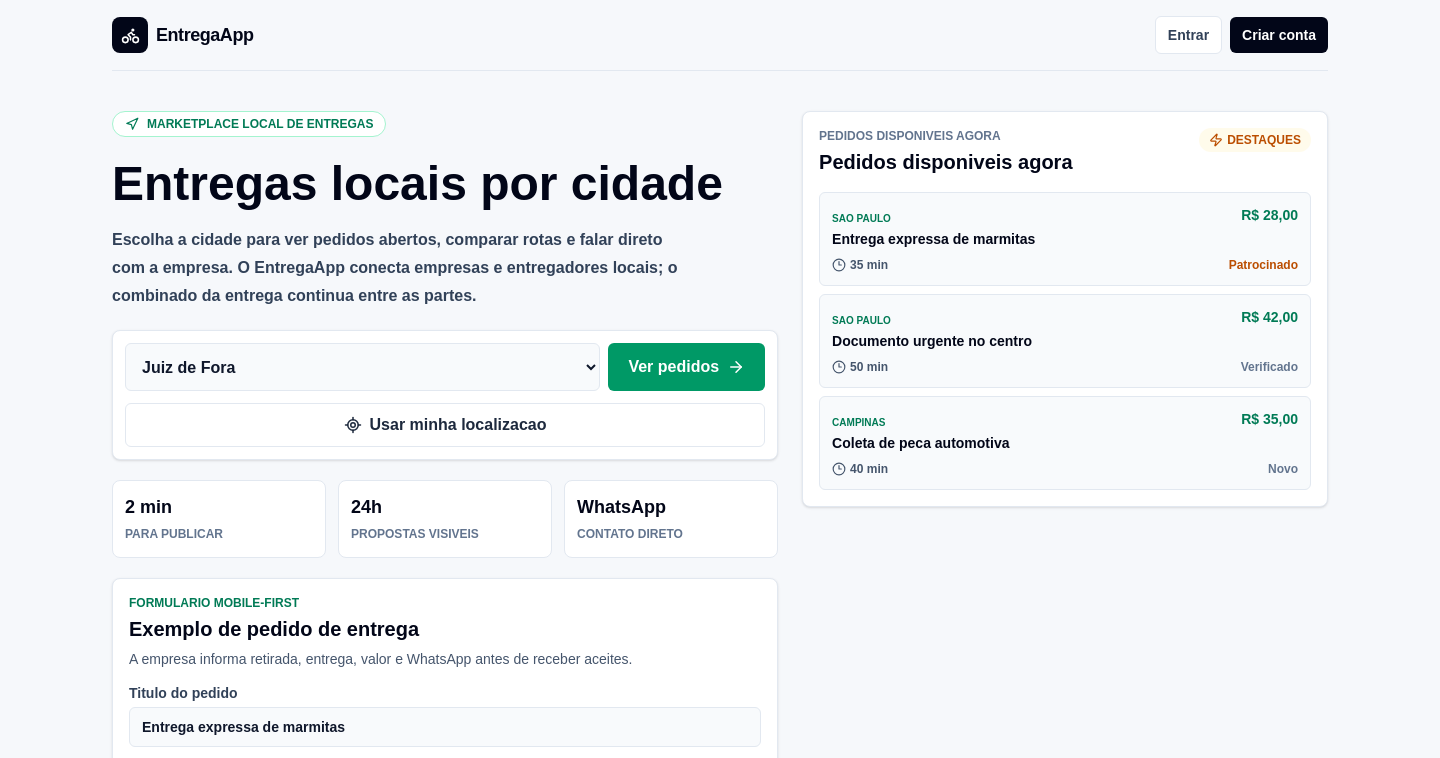
it: delivery UI › uses browser location to select the nearest city for free
Click the button "Usar minha localizacao". click: (445, 425)
box: [125,403,765,447]
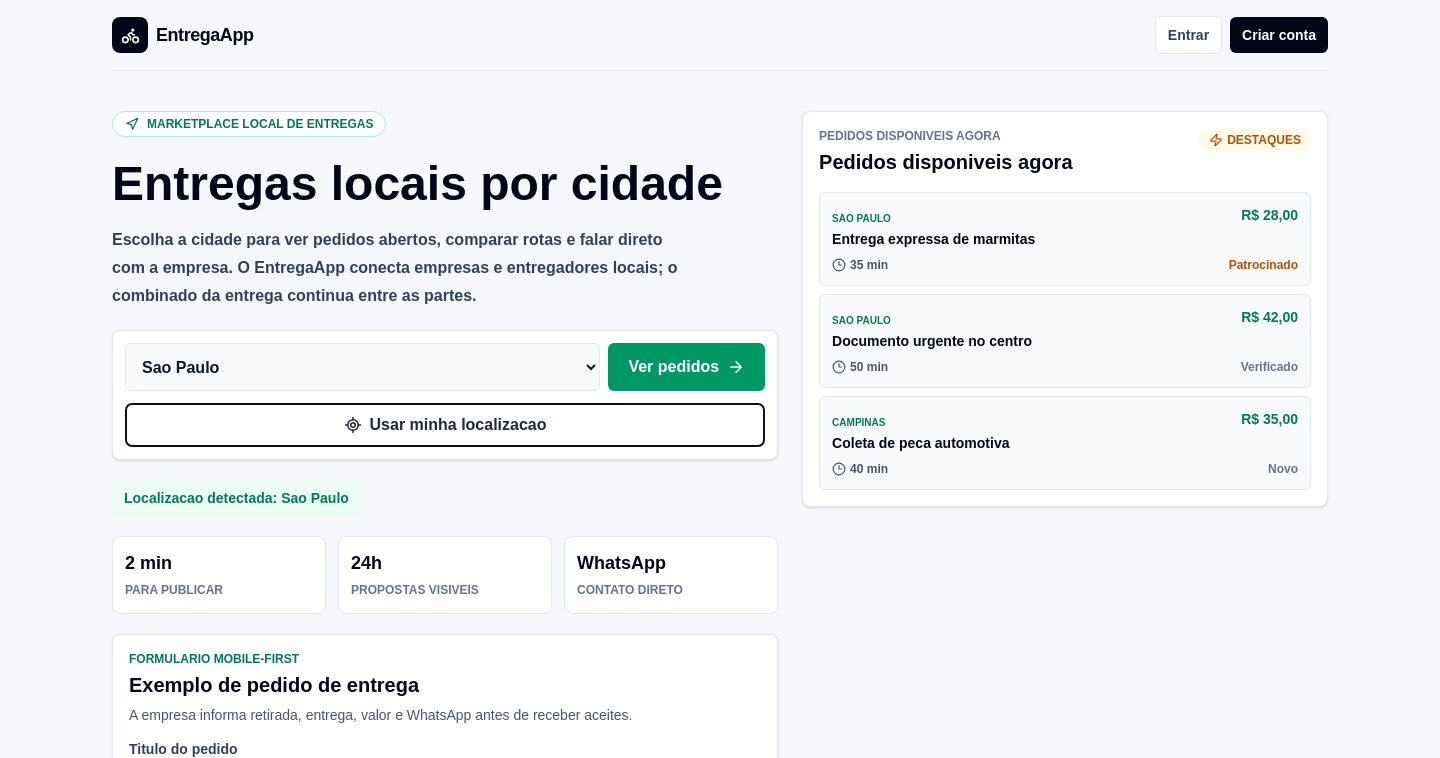
Expected: the text "Localizacao detectada: Sao Paulo" is shown, [112,480,361,516]
Expected: the dropdown named "cidade" shows "Sao Paulo", [125,343,600,391]
